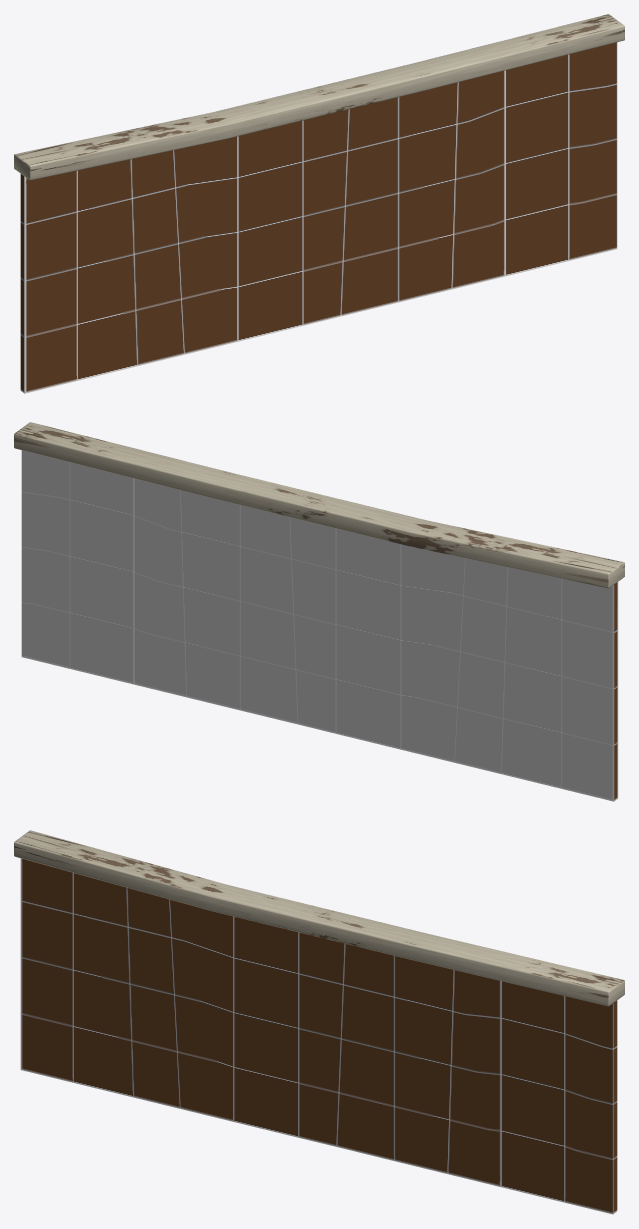
Rendered from Hangar01P_1.FBX.
The picture shows the model from 3 angles, top to bottom: view 1: azimuth 30°, elevation 25°; view 2: azimuth 150°, elevation 25°; view 3: azimuth 330°, elevation 25°; orthographic projection.
Parts seen in each view (by area): view 1: Hangar01P_1; view 2: Hangar01P_1; view 3: Hangar01P_1.
Boxes of the visible parts, x1,y1,x2,y2 form: Hangar01P_1: (14, 14, 624, 393); Hangar01P_1: (14, 422, 624, 801); Hangar01P_1: (14, 830, 624, 1214).
Size of what is drawn, in the model's own units: 4.15 by 1.55 by 0.2.
